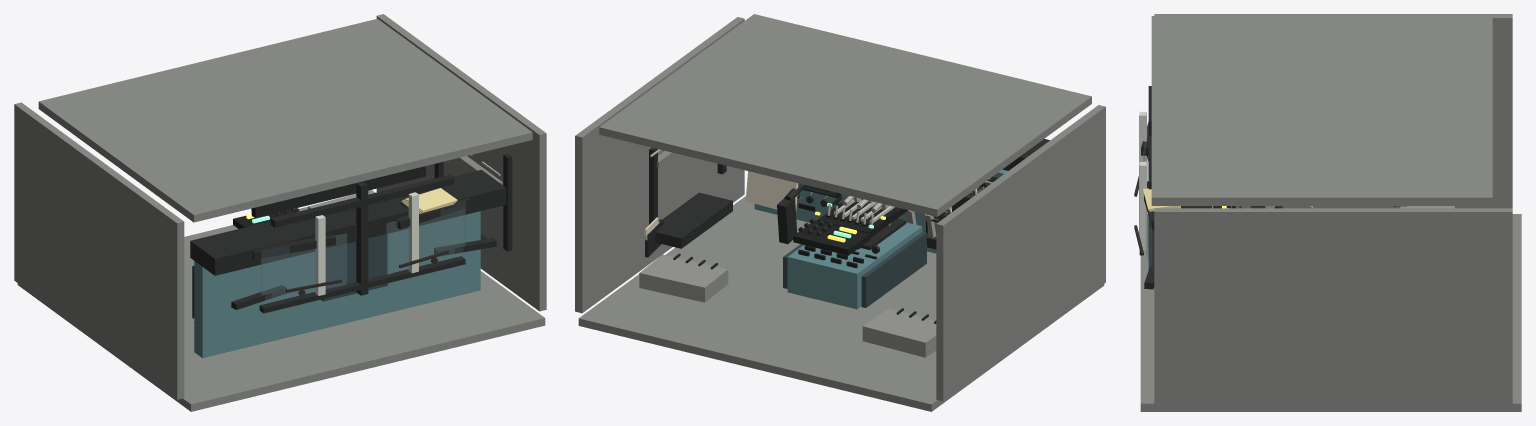
Rendered from dc9-cockpit.glb.
3 renders of one model, left to right at view 1: azimuth 30°, elevation 25°; view 2: azimuth 150°, elevation 25°; view 3: azimuth 270°, elevation 25°, orthographic. The views are drawn at different scales.
Parts seen in each view (by area): view 1: DC9_COCKPIT_SHELL_CEILING_01, DC9_COCKPIT_SHELL_LEFT_WALL_01, DC9_COCKPIT_SHELL_FLOOR_01, DC9_MAIN_PANEL_BLOCKOUT_01, DC9_COCKPIT_SHELL_RIGHT_WALL_01, DC9_GLARESHIELD_BLOCKOUT_01, DC9_WINDSHIELD_LEFT_GLASS_01, DC9_WINDSHIELD_RIGHT_GLASS_01, DC9_CENTER_ENGINE_PANEL_BLOCKOUT_01, DC9_WINDSHIELD_UPPER_SHADOW_LIP_01, DC9_FORWARD_OVERHEAD_FACE_01, DC9_WINDSHIELD_LOWER_SHADOW_LIP_01 (+9 smaller); view 2: DC9_COCKPIT_SHELL_CEILING_01, DC9_COCKPIT_SHELL_FLOOR_01, DC9_COCKPIT_SHELL_LEFT_WALL_01, DC9_COCKPIT_SHELL_RIGHT_WALL_01, DC9_CENTER_PEDESTAL_BLOCKOUT_01, DC9_FIRST_OFFICER_SEAT_CUSHION_VISIBLE_01, DC9_CAPTAIN_SEAT_CUSHION_VISIBLE_01, DC9_RIGHT_ARMREST_SHADOW_01, DC9_CENTER_PEDESTAL_SIDE_SHADOW_01, DC9_PEDESTAL_RADIO_STACK_BLACK_PANEL_01, DC9_PROP_MEM_ROUTE_CARD_01, DC9_MAIN_PANEL_BLOCKOUT_01 (+3 smaller); view 3: DC9_COCKPIT_SHELL_RIGHT_WALL_01, DC9_COCKPIT_SHELL_CEILING_01, DC9_COCKPIT_SHELL_FLOOR_01, DC9_COCKPIT_SHELL_LEFT_WALL_01, DC9_WINDSHIELD_RIGHT_WHITE_POST_01.
Boxes of the visible parts, box(x1,y1,x2,y2) form: DC9_COCKPIT_SHELL_CEILING_01: box(38, 18, 532, 222); DC9_COCKPIT_SHELL_LEFT_WALL_01: box(14, 102, 184, 399); DC9_COCKPIT_SHELL_FLOOR_01: box(17, 207, 545, 411); DC9_MAIN_PANEL_BLOCKOUT_01: box(194, 211, 480, 358); DC9_COCKPIT_SHELL_RIGHT_WALL_01: box(376, 14, 546, 311); DC9_GLARESHIELD_BLOCKOUT_01: box(190, 170, 506, 275); DC9_WINDSHIELD_LEFT_GLASS_01: box(261, 233, 346, 301); DC9_WINDSHIELD_RIGHT_GLASS_01: box(386, 201, 465, 274); DC9_CENTER_ENGINE_PANEL_BLOCKOUT_01: box(321, 234, 387, 301); DC9_WINDSHIELD_UPPER_SHADOW_LIP_01: box(270, 174, 454, 227); DC9_FORWARD_OVERHEAD_FACE_01: box(251, 166, 426, 217); DC9_WINDSHIELD_LOWER_SHADOW_LIP_01: box(259, 256, 465, 313); DC9_COCKPIT_SHELL_CEILING_01: box(599, 14, 1091, 216); DC9_COCKPIT_SHELL_FLOOR_01: box(578, 196, 1104, 411); DC9_COCKPIT_SHELL_LEFT_WALL_01: box(936, 105, 1105, 401); DC9_COCKPIT_SHELL_RIGHT_WALL_01: box(575, 17, 744, 313); DC9_CENTER_PEDESTAL_BLOCKOUT_01: box(787, 222, 922, 309); DC9_FIRST_OFFICER_SEAT_CUSHION_VISIBLE_01: box(639, 254, 728, 302); DC9_CAPTAIN_SEAT_CUSHION_VISIBLE_01: box(862, 308, 936, 357); DC9_RIGHT_ARMREST_SHADOW_01: box(655, 192, 732, 248); DC9_CENTER_PEDESTAL_SIDE_SHADOW_01: box(861, 231, 926, 307); DC9_PEDESTAL_RADIO_STACK_BLACK_PANEL_01: box(793, 220, 870, 255); DC9_PROP_MEM_ROUTE_CARD_01: box(745, 171, 798, 212); DC9_MAIN_PANEL_BLOCKOUT_01: box(754, 169, 1007, 253); DC9_COCKPIT_SHELL_RIGHT_WALL_01: box(1154, 208, 1512, 405); DC9_COCKPIT_SHELL_CEILING_01: box(1151, 16, 1492, 205); DC9_COCKPIT_SHELL_FLOOR_01: box(1140, 214, 1521, 411); DC9_COCKPIT_SHELL_LEFT_WALL_01: box(1154, 14, 1512, 208); DC9_WINDSHIELD_RIGHT_WHITE_POST_01: box(1139, 161, 1146, 250).
Size of what is drawn, in the model's own units: 4.12 by 2.04 by 3.41.
